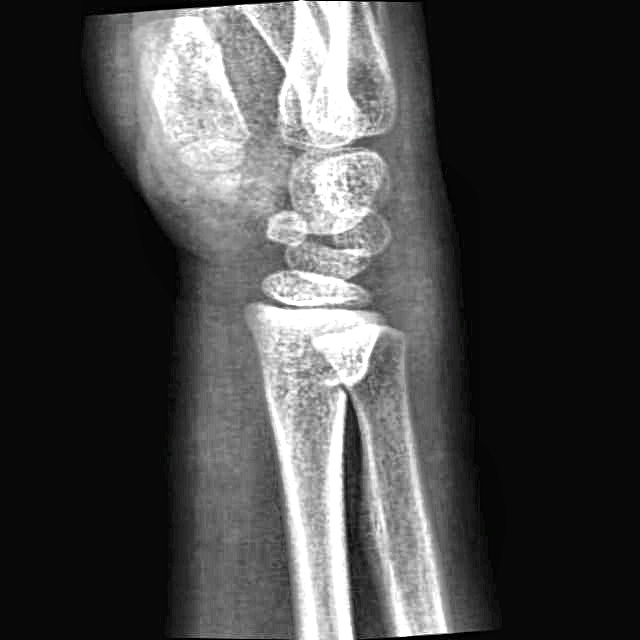Greenstick: (299, 355, 390, 420)
